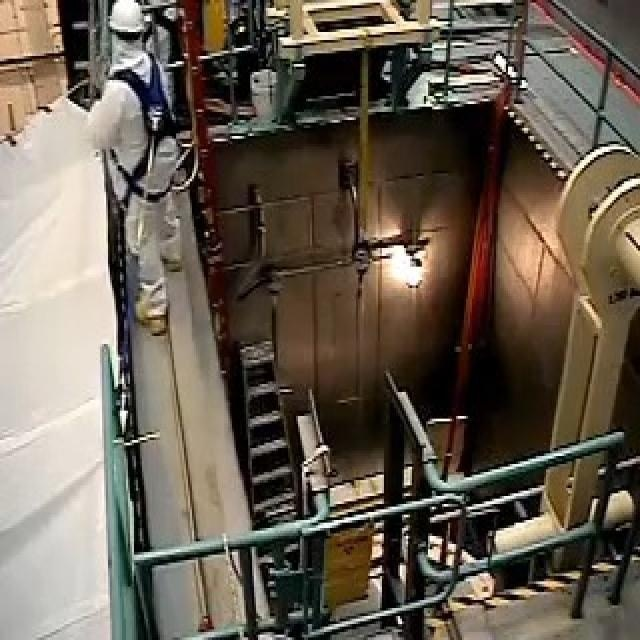Arnes_seguridad: (108, 44, 184, 213)
